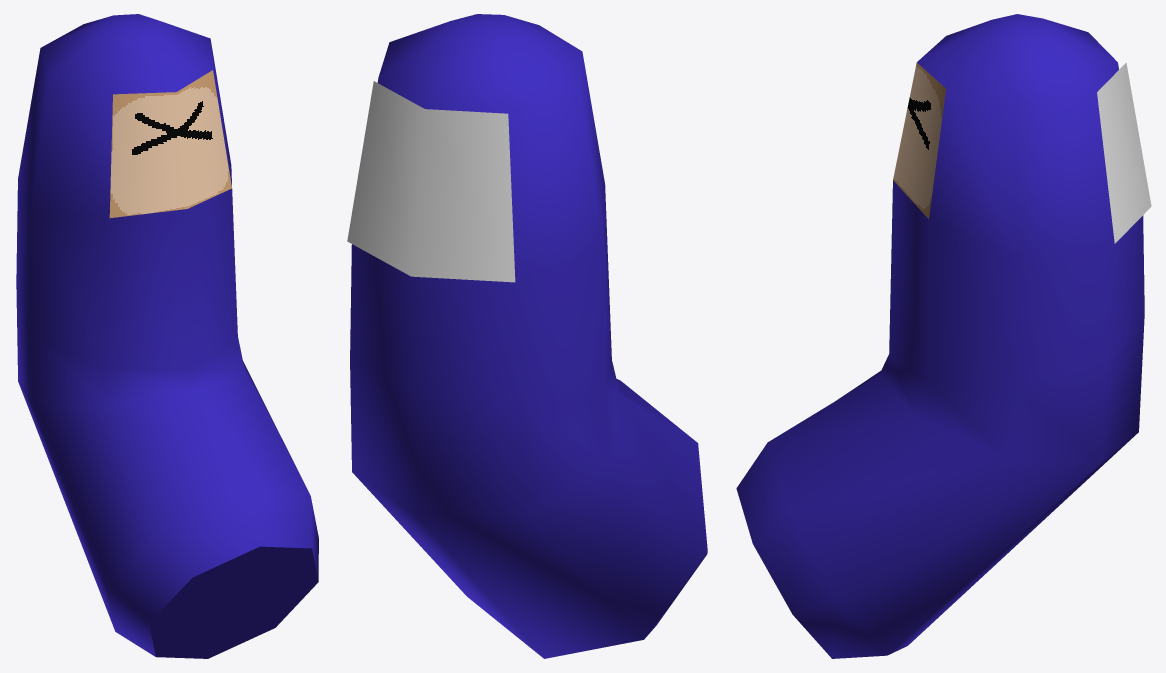
The model's file is OTA_D_04.glb.
The picture shows the model from 3 angles, left to right: view 1: azimuth 30°, elevation 25°; view 2: azimuth 150°, elevation 25°; view 3: azimuth 270°, elevation 25°; orthographic projection. The views are drawn at different scales.
Visible parts, largest first — view 1: FRAME_ROOT; view 2: FRAME_ROOT; view 3: FRAME_ROOT.
Part boxes in pixels (x1,y1,x2,y2): FRAME_ROOT: (16,14,318,658); FRAME_ROOT: (347,14,707,658); FRAME_ROOT: (736,14,1151,658).
Bounding box in the file's own units: 1.28 × 3.35 × 2.01.
3 materials, 3 textured.
